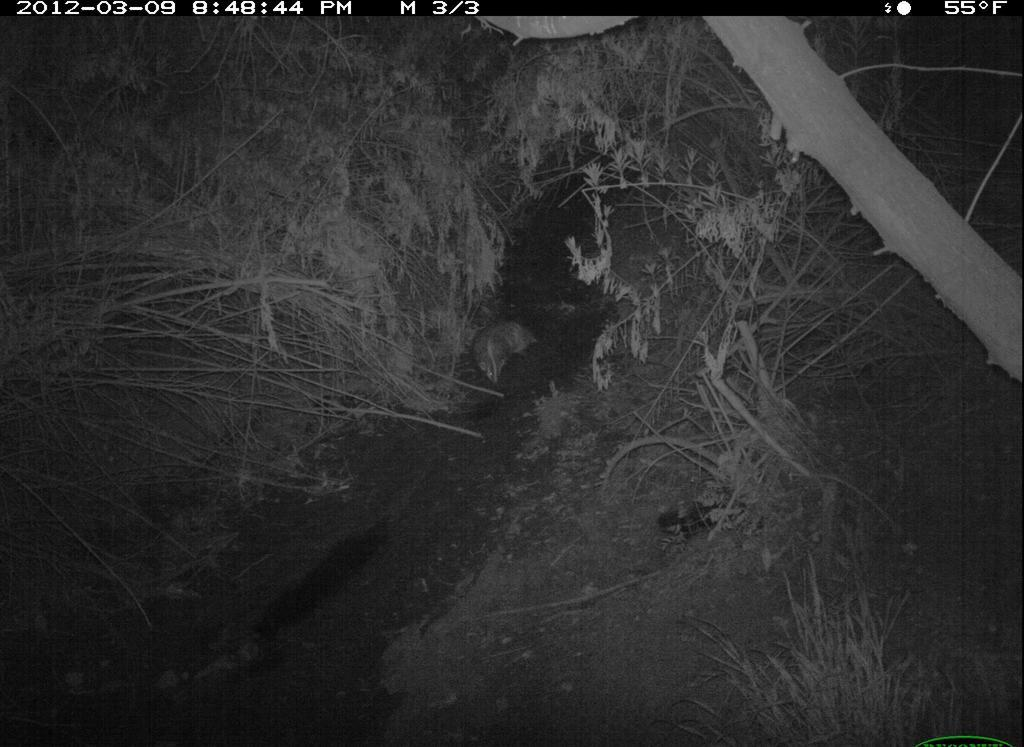badger: (470, 313, 542, 387)
